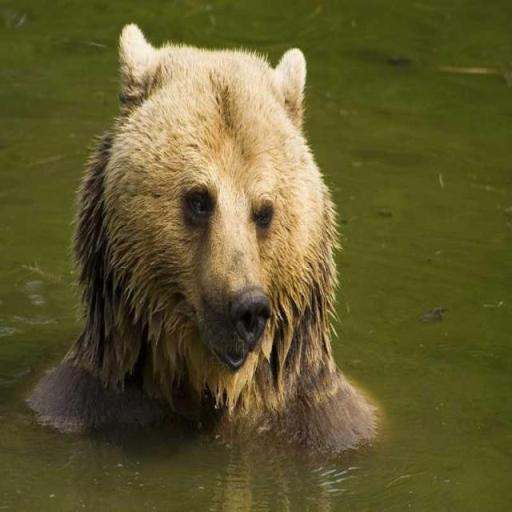Bear: (26, 20, 380, 452)
